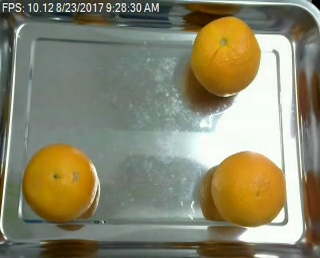Orange: (22, 142, 98, 223), (210, 150, 287, 227), (191, 15, 260, 95)
